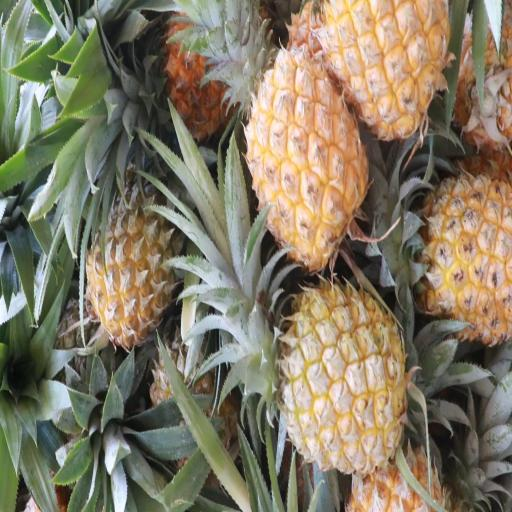Pineapple - v8 v1: (237, 51, 371, 272), (266, 275, 404, 477), (367, 167, 512, 340), (82, 159, 172, 348)
